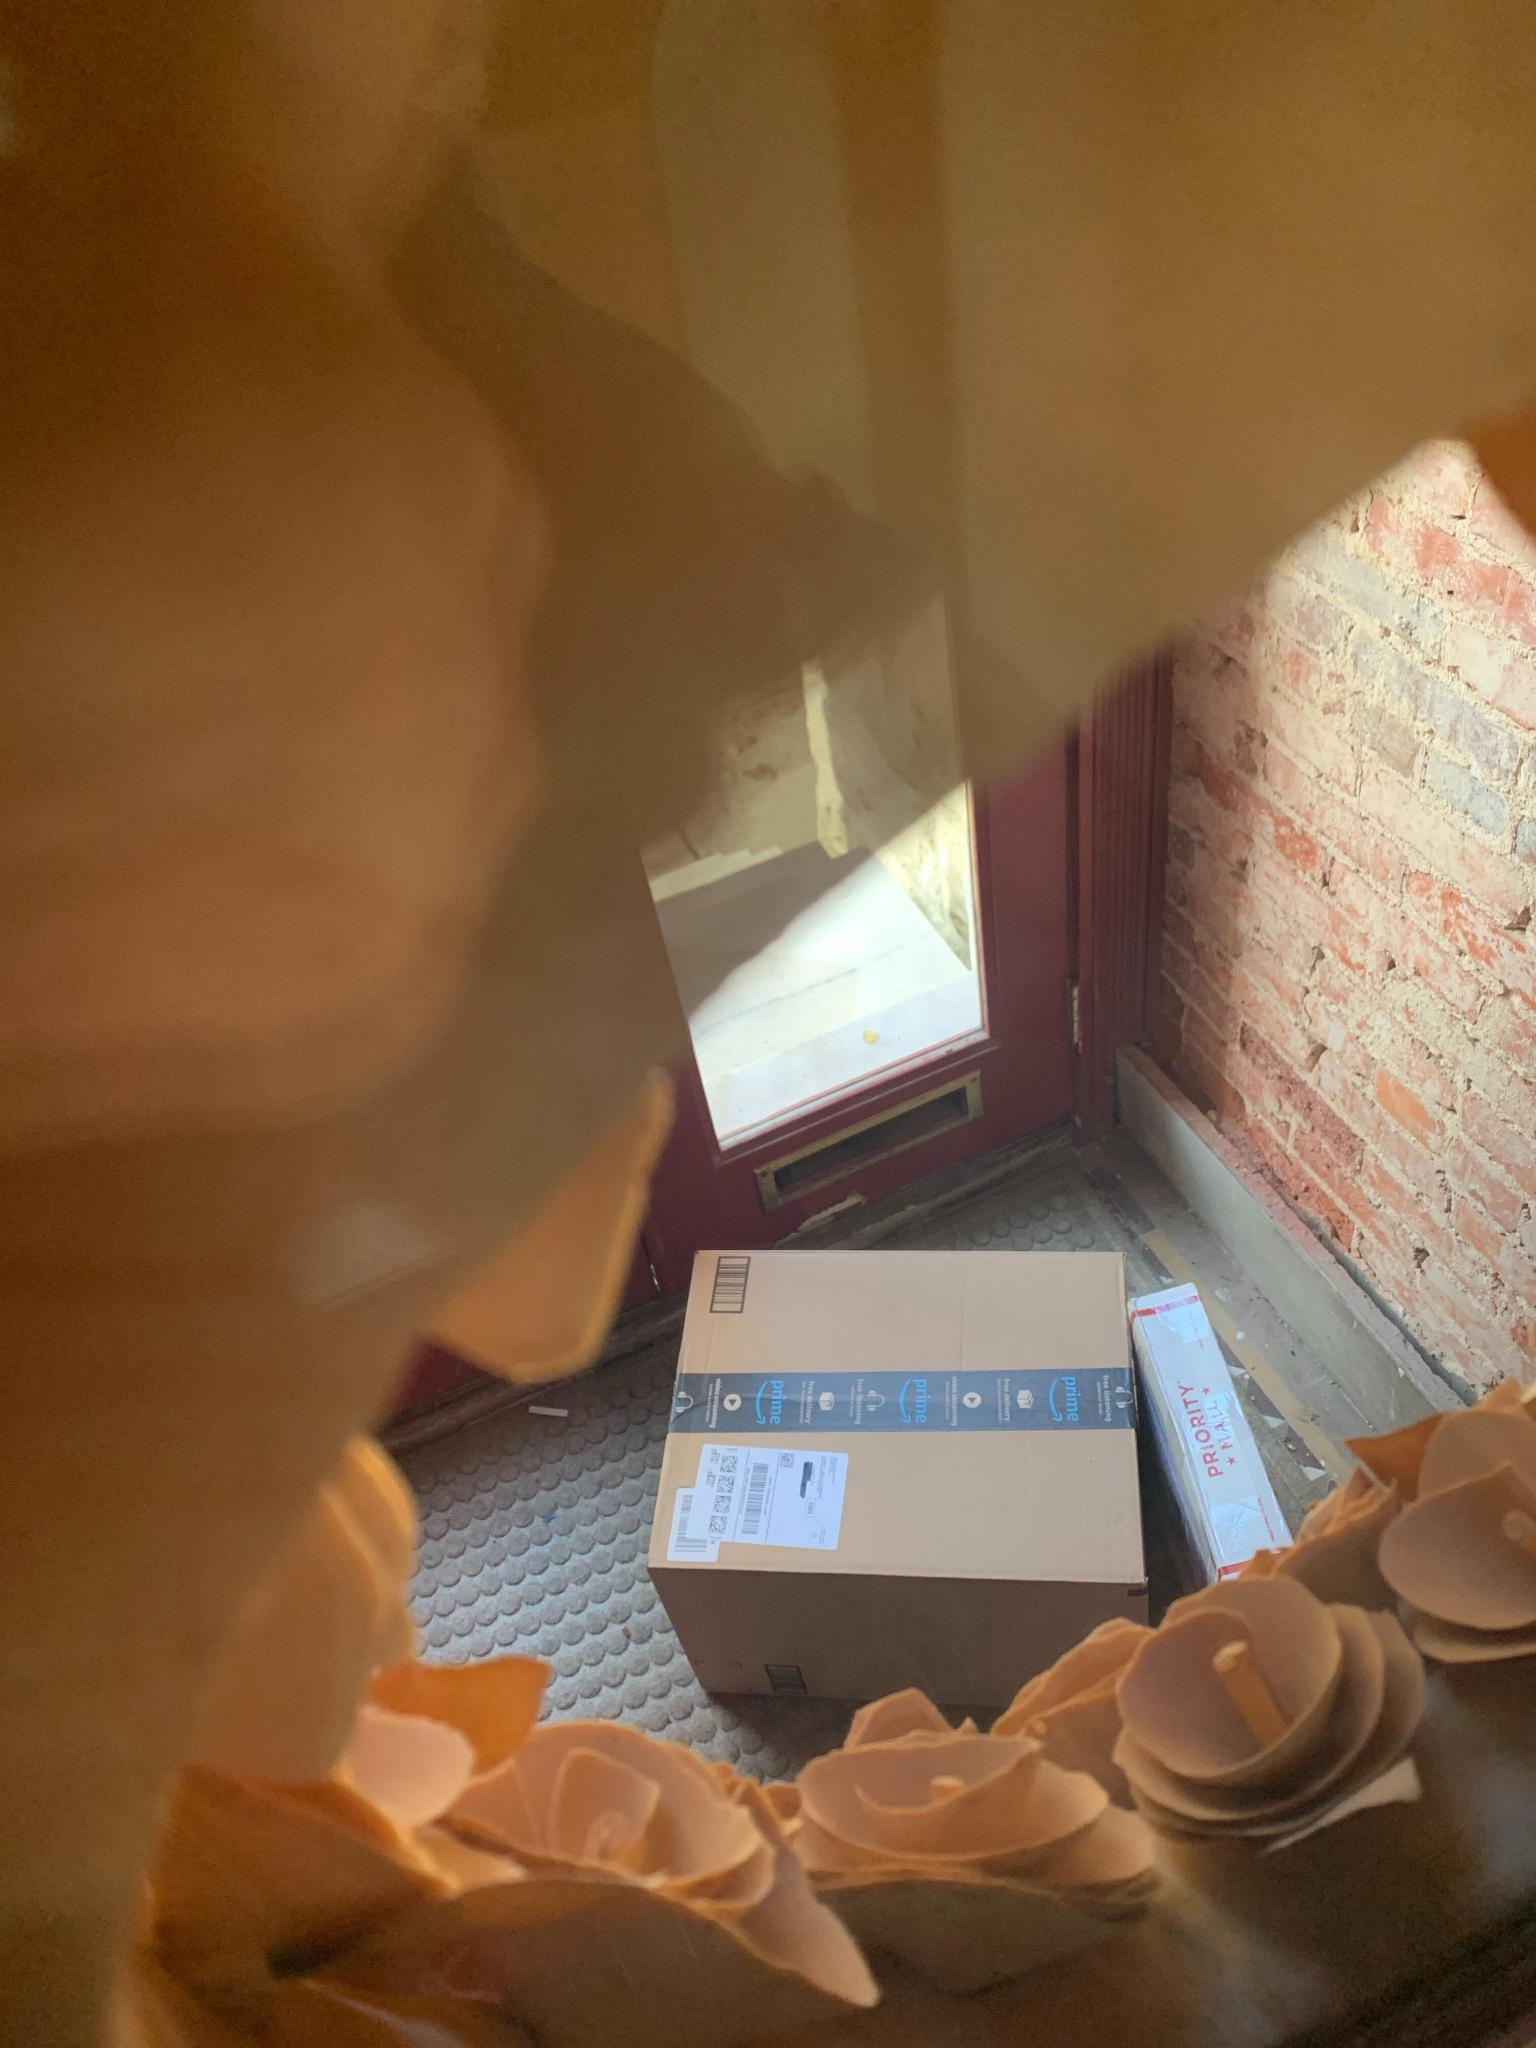package: (647, 1243, 1142, 1705), (1129, 1280, 1299, 1582)
